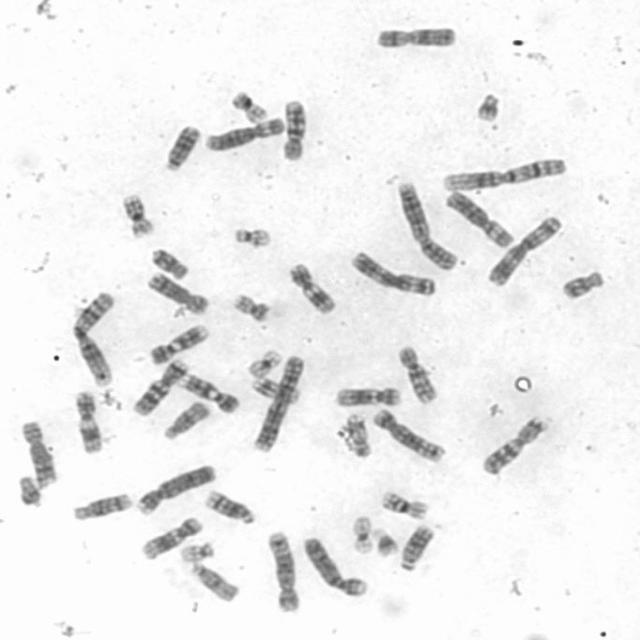A1: (436, 152, 569, 192), (66, 285, 118, 387)
A2: (392, 176, 461, 271), (248, 351, 306, 454)
A3: (482, 211, 564, 288), (346, 245, 439, 298)
B4: (131, 458, 219, 516), (298, 531, 370, 598)
B5: (368, 403, 448, 464), (262, 525, 302, 614)
C10: (392, 340, 441, 405), (277, 94, 310, 162)
C11: (283, 258, 339, 316), (70, 385, 106, 454)
C12: (137, 512, 206, 561), (330, 381, 404, 408)
C6: (440, 185, 516, 249), (200, 112, 288, 152)
C7: (478, 411, 552, 476), (128, 354, 190, 416)
C8: (143, 267, 212, 315), (15, 415, 59, 488)
C9: (146, 318, 212, 366), (177, 368, 242, 414)
D13: (160, 119, 203, 173), (396, 519, 437, 572)
D14: (201, 485, 258, 526), (69, 488, 135, 522)
D15: (185, 556, 242, 604), (159, 396, 212, 440)
E16: (117, 189, 158, 238), (377, 486, 432, 520)
E17: (247, 373, 303, 405), (342, 408, 374, 460)
E18: (557, 264, 607, 301), (148, 243, 192, 280)
F19: (243, 344, 284, 380), (346, 510, 376, 556)
F20: (226, 85, 270, 124), (228, 288, 273, 323)
G21: (469, 86, 505, 124), (368, 522, 402, 558)
G22: (228, 221, 274, 249), (175, 537, 217, 563)
X: (372, 22, 461, 49)
